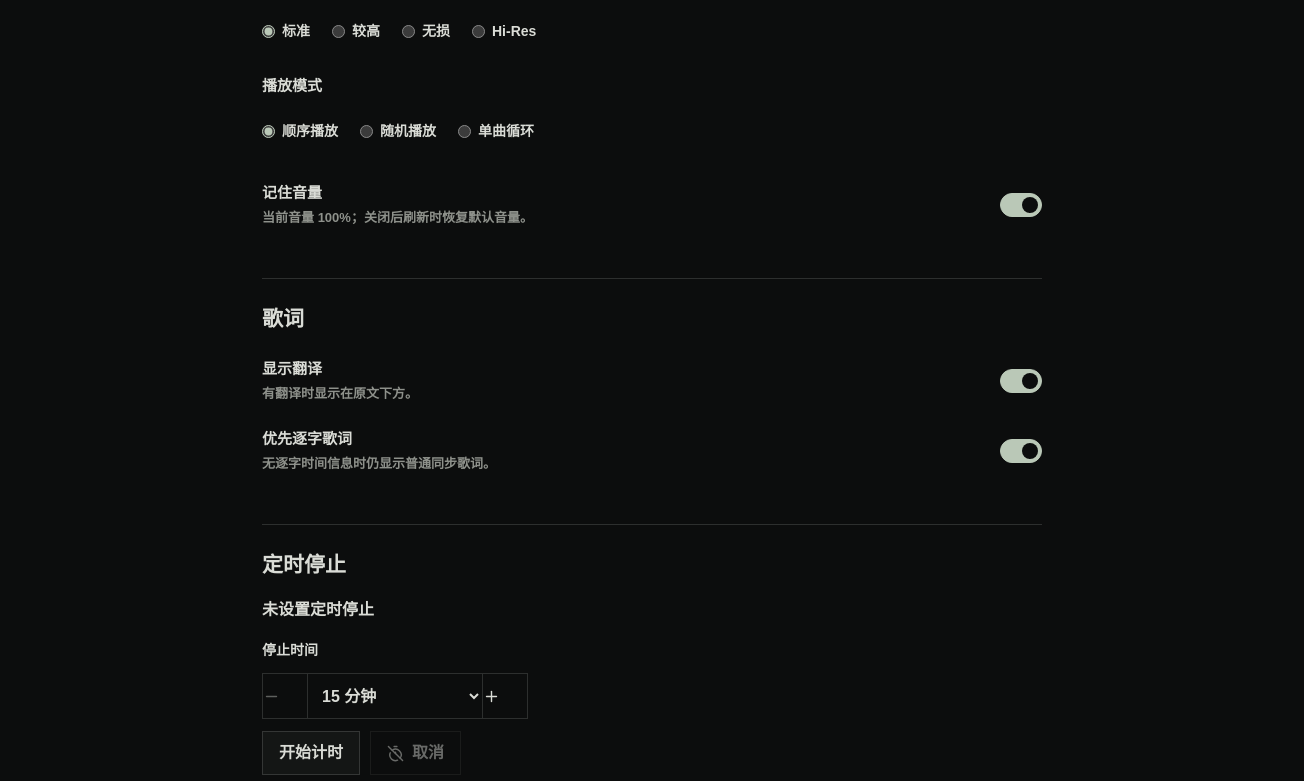
Test: settings experience › applies translation and word-timing preferences to existing lyrics
(page scrolled)
Click the switch labelled "显示翻译 有翻译时显示在原文下方。" at (1021, 381), box [1000, 369, 1042, 393]
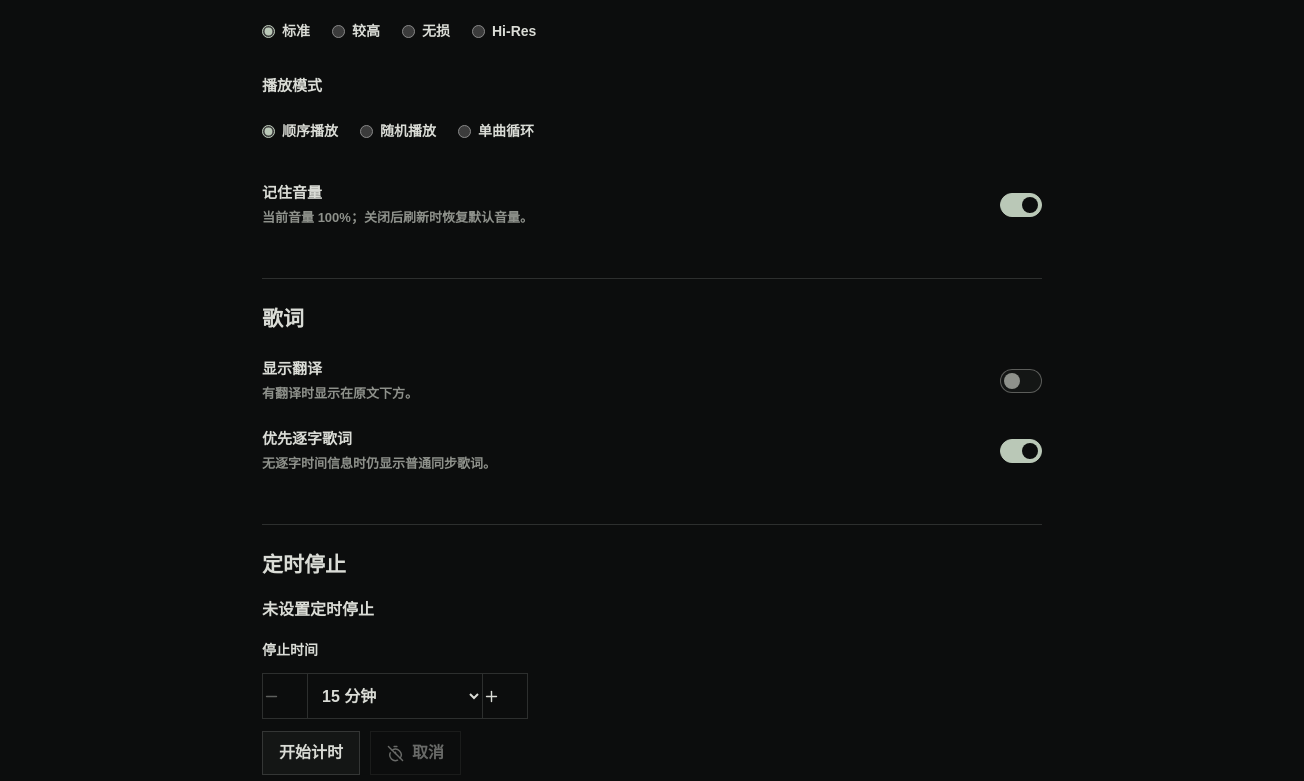
Click the switch labelled "优先逐字歌词 无逐字时间信息时仍显示普通同步歌词。" at (1021, 451), box [1000, 439, 1042, 463]
(page scrolled)
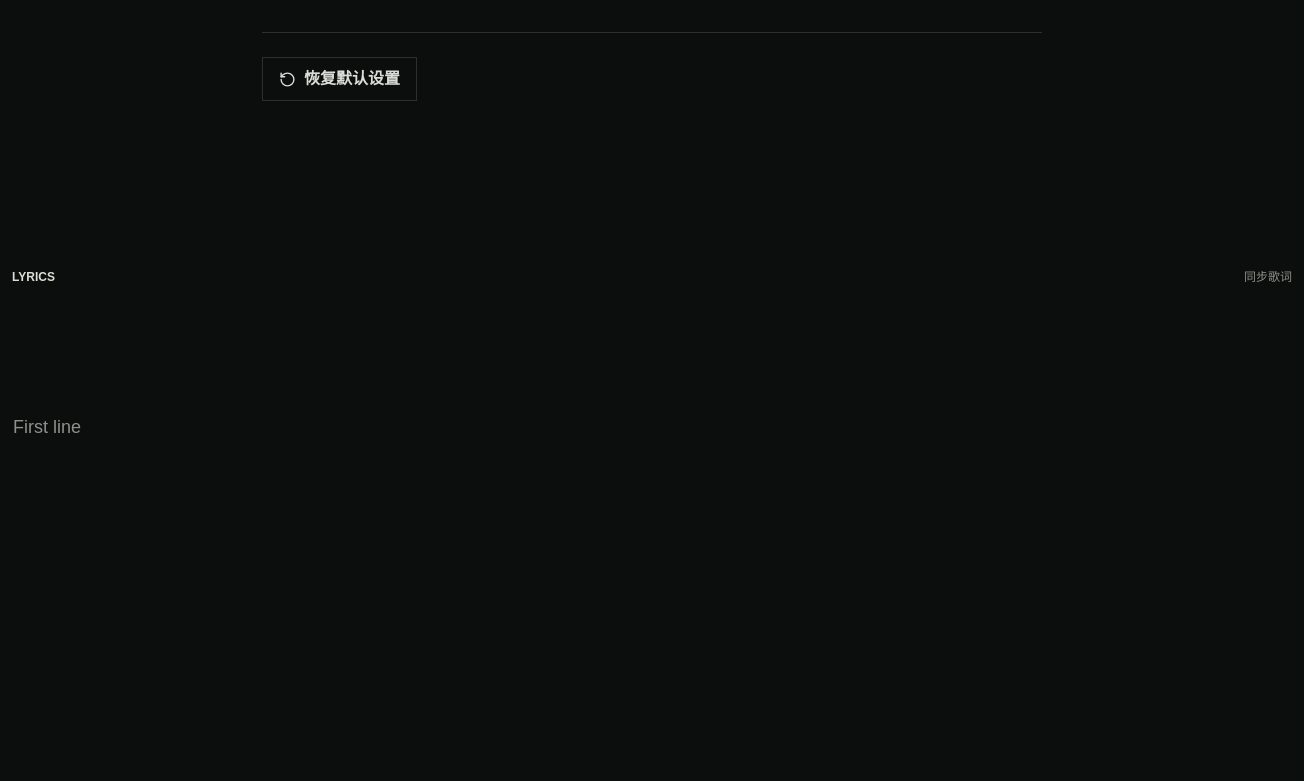
Check: the button "First line" is shown, box [12, 401, 1292, 457]
